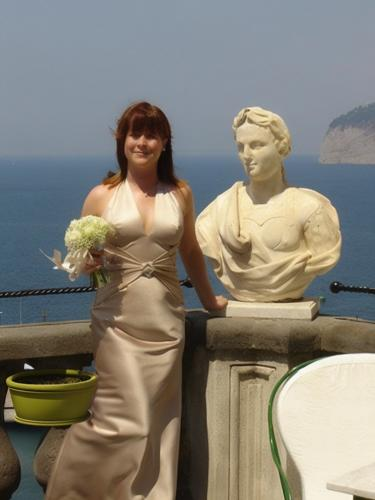person: (60, 101, 228, 499)
person/hand: (82, 249, 105, 275), (214, 296, 228, 310)
person/head: (121, 103, 168, 167)
pottedplant: (5, 368, 98, 428)
